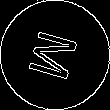M_E: (25, 26, 85, 84)
